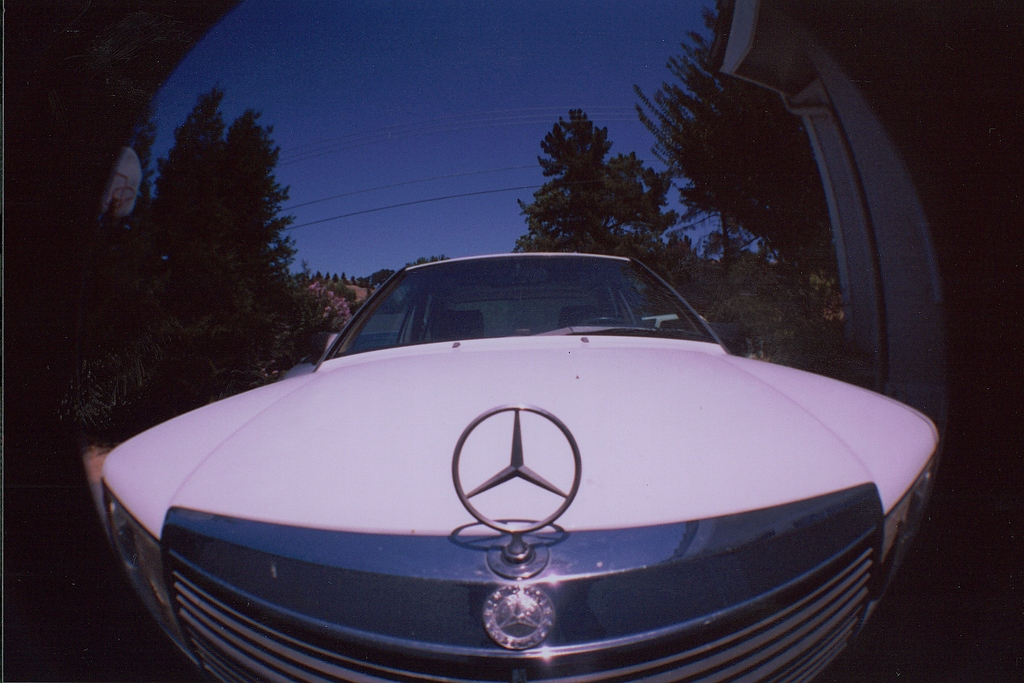Car: (62, 229, 929, 656)
